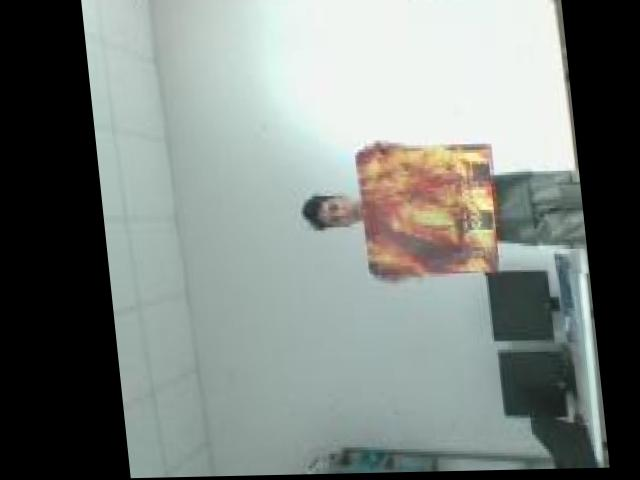fire-poster: (347, 140, 501, 289)
